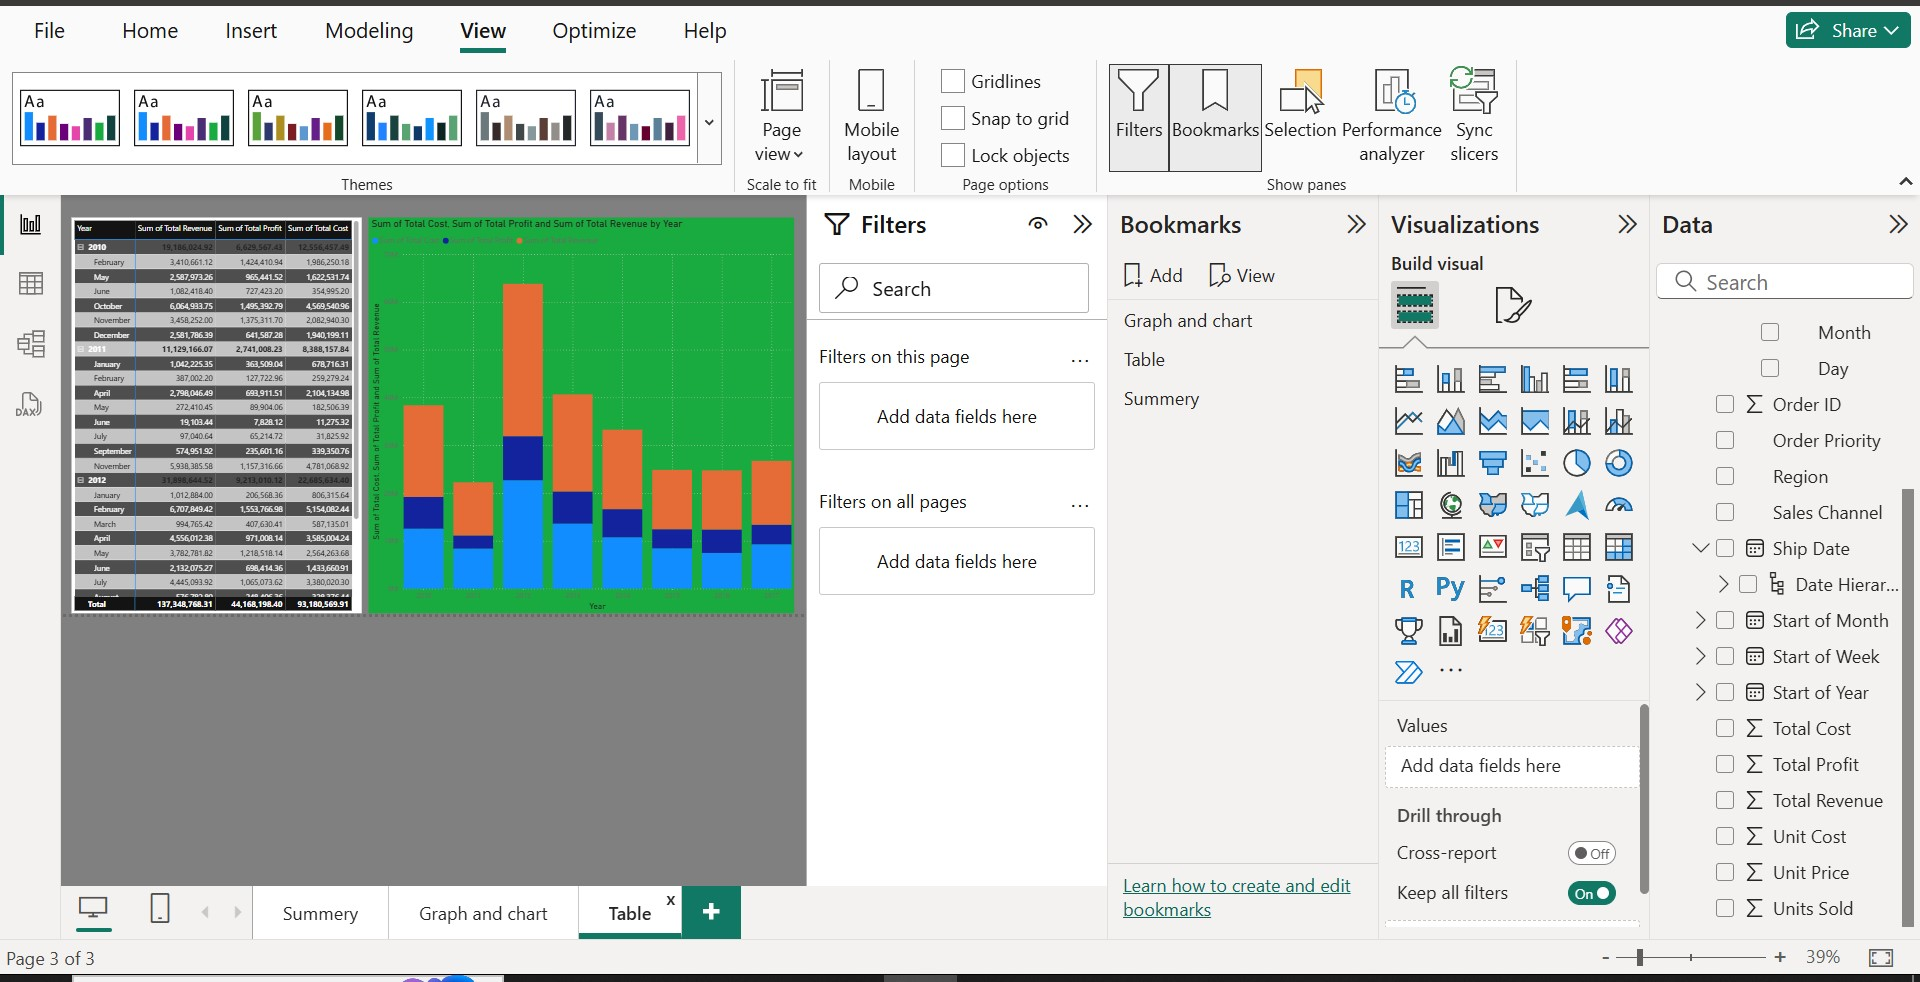

The page's visual inventory and layout, read from the dashboard file:
{"tool":"powerbi","page":{"name":"Table","canvas":[1280,720],"ordinal":2},"visuals":[{"type":"pivotTable","fields":{"Rows":["AmazonSalesData.Order Date.Variation.Date Hierarchy.Year","AmazonSalesData.Order Date.Variation.Date Hierarchy.Month"],"Values":["Sum(AmazonSalesData.Total Revenue)","Sum(AmazonSalesData.Total Profit)","Sum(AmazonSalesData.Total Cost)"]},"box":[18.9,39.7,498.9,680.3],"z":0},{"type":"columnChart","fields":{"Category":["AmazonSalesData.Order Date.Variation.Date Hierarchy.Year","AmazonSalesData.Order Date.Variation.Date Hierarchy.Quarter","AmazonSalesData.Order Date.Variation.Date Hierarchy.Month","AmazonSalesData.Order Date.Variation.Date Hierarchy.Day"],"Y":["Sum(AmazonSalesData.Total Cost)","Sum(AmazonSalesData.Total Profit)","Sum(AmazonSalesData.Total Revenue)"]},"box":[527.2,39.7,731.3,680.3],"z":1}]}

Visuals, with their boxes on the page's 1280x720 design canvas (x1, y1, x2, y2). These are canvas units, not pixel positions in the 1920x982 screenshot, which may show the page scaled, cropped or inside an application window:
pivotTable - AmazonSalesData.Order Date.Variation.Date Hierarchy.Year x AmazonSalesData.Order Date.Variation.Date Hierarchy.Month: (x1=19, y1=40, x2=518, y2=720)
columnChart - AmazonSalesData.Order Date.Variation.Date Hierarchy.Year x AmazonSalesData.Order Date.Variation.Date Hierarchy.Quarter: (x1=527, y1=40, x2=1258, y2=720)
